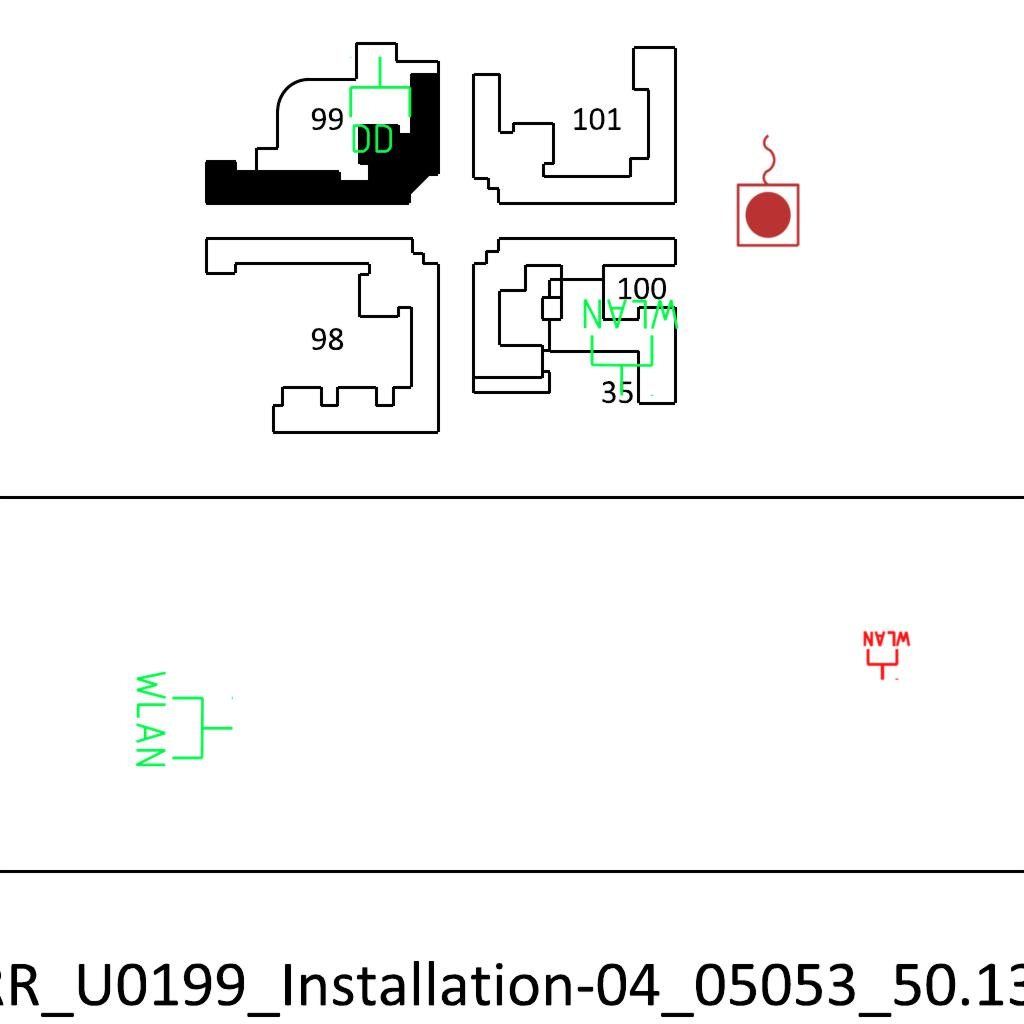Datenanschluss_zweifach: (345, 54, 414, 157)
WLAN: (132, 666, 236, 771), (579, 295, 684, 399), (861, 630, 913, 682)
Zugtaster: (733, 129, 805, 251)
